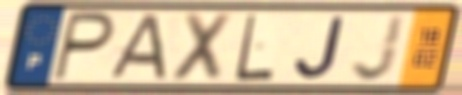A: (102, 12, 171, 82)
J: (348, 13, 408, 84), (292, 14, 348, 82)
L: (233, 11, 277, 83)
P: (49, 9, 117, 84)
X: (166, 10, 237, 85)
